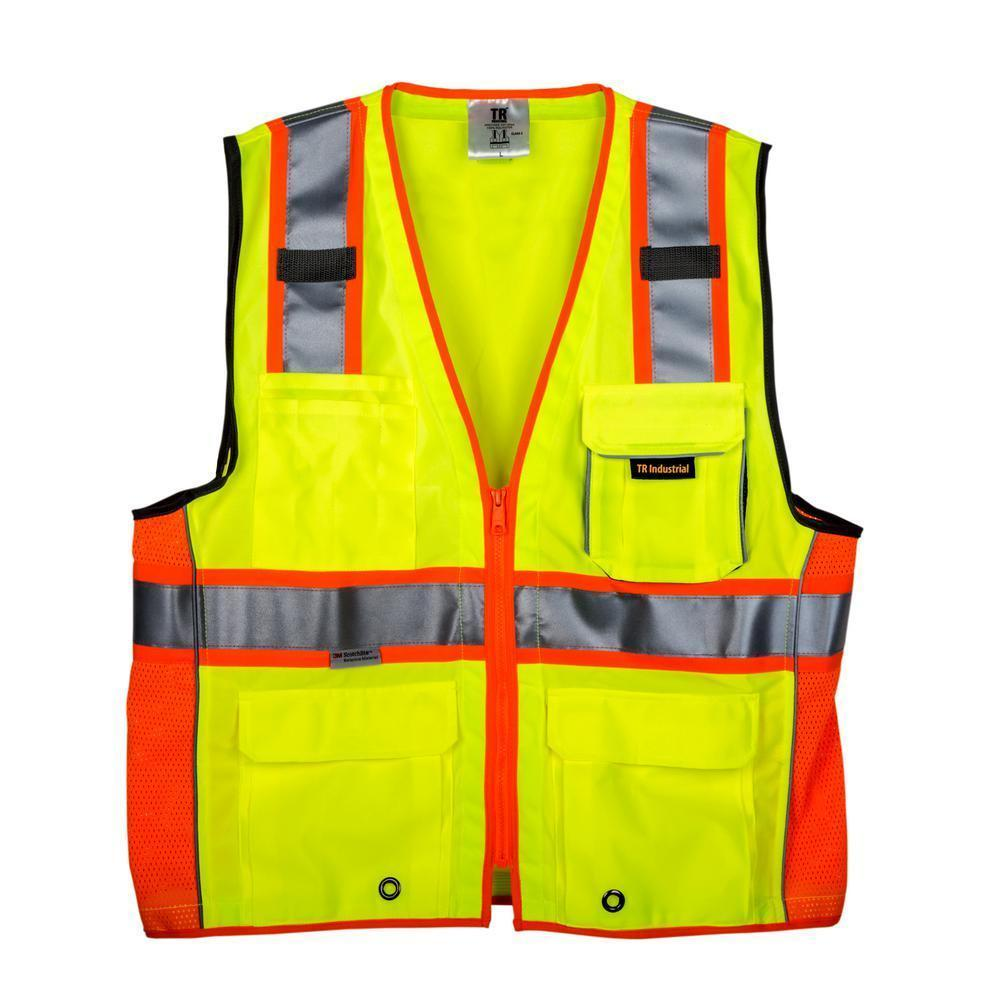vest: (123, 76, 865, 937)
